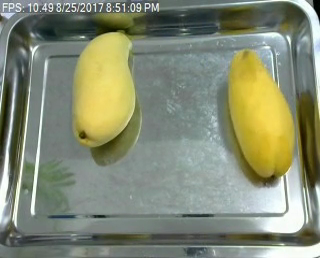Mango: (218, 43, 304, 179), (63, 28, 142, 156)
